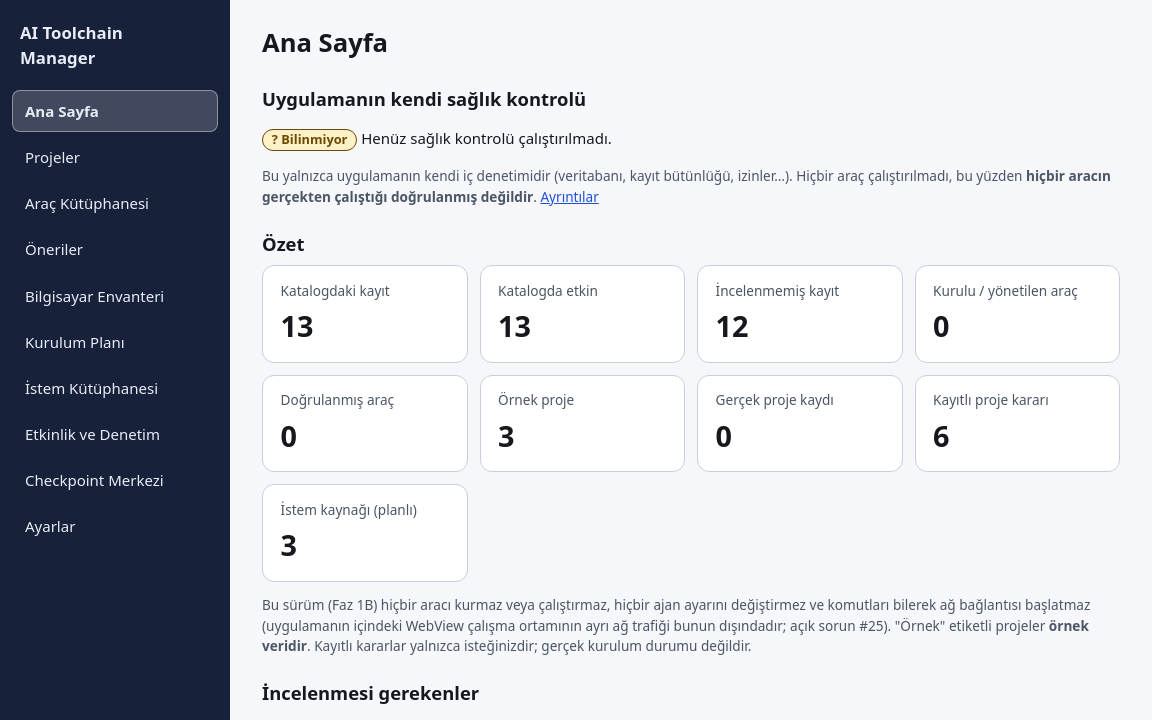
it: no network, no command at mount, navigation or startup › opening the page makes no assess call and no fetch; the manual viewer and the new section both exist and are separate
Click the button "Checkpoint Merkezi". click: (115, 480)
box: [12,459,218,501]
(page scrolled)
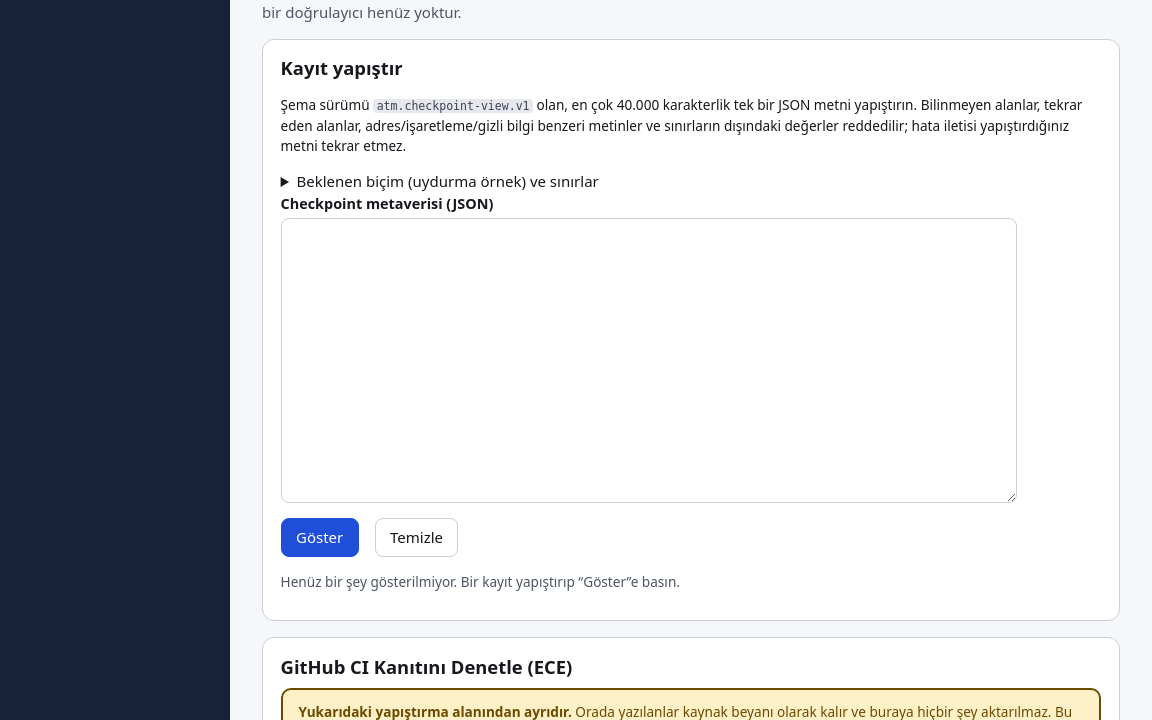
Expected: the heading "GitHub CI Kanıtını Denetle (ECE)" is shown, [281,654,572,679]
Expected: the text box labelled "Checkpoint metaverisi (JSON)" is shown, [281,218,1017,503]
